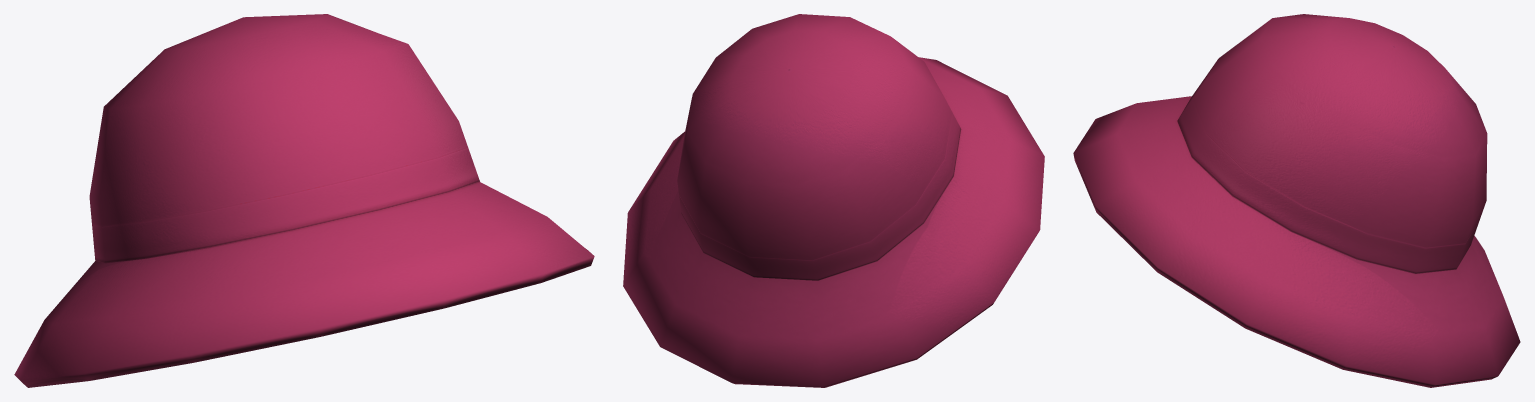
Rendered from HatB.fbx.
3 views of the same model, side by side, from view 1: azimuth 30°, elevation 25°; view 2: azimuth 150°, elevation 25°; view 3: azimuth 270°, elevation 25° (orthographic). The views are drawn at different scales.
Parts seen in each view (by area): view 1: HatB; view 2: HatB; view 3: HatB.
Part boxes in pixels (box(x1,y1,x2,y2)): HatB: box(14, 14, 594, 387); HatB: box(623, 14, 1044, 387); HatB: box(1073, 14, 1520, 387).
Bounding box in the file's own units: 31 × 23.36 × 29.99.
